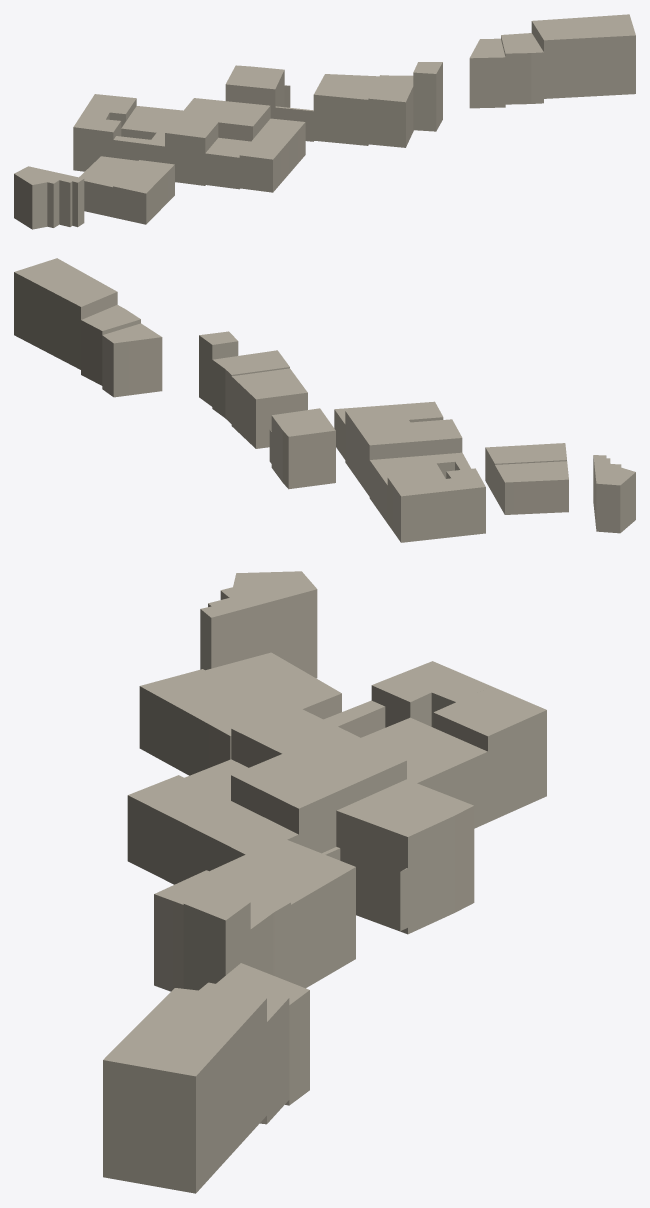
File: senglea_57_24_collision.glb
3 renders of one model, top to bottom at view 1: azimuth 30°, elevation 25°; view 2: azimuth 150°, elevation 25°; view 3: azimuth 270°, elevation 25°, orthographic. The views are drawn at different scales.
Parts seen in each view (by area): view 1: geometry_0; view 2: geometry_0; view 3: geometry_0.
Part boxes in pixels (left/top/right/bottom): geometry_0: left=14, top=14, right=635, bottom=229; geometry_0: left=14, top=258, right=635, bottom=542; geometry_0: left=103, top=571, right=546, bottom=1193.
Size of the model in its own units: 145 by 18.61 by 47.16.
